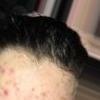Acne: (0, 63, 15, 74), (1, 84, 9, 98)
